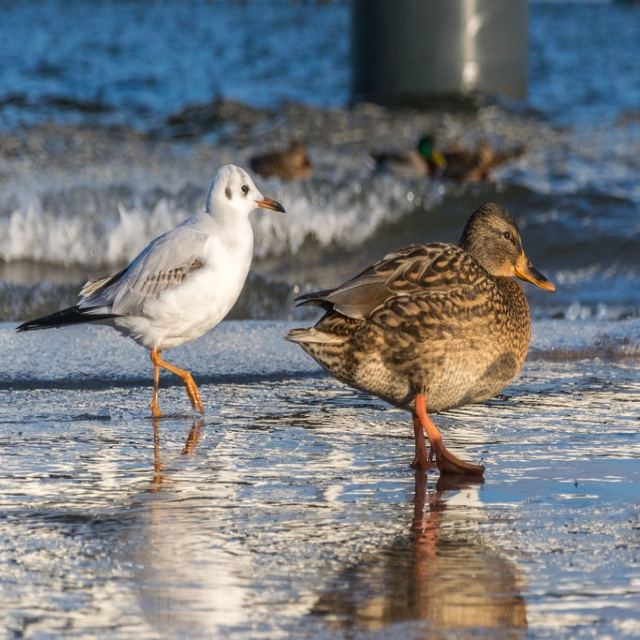Duck: (281, 200, 556, 476)
